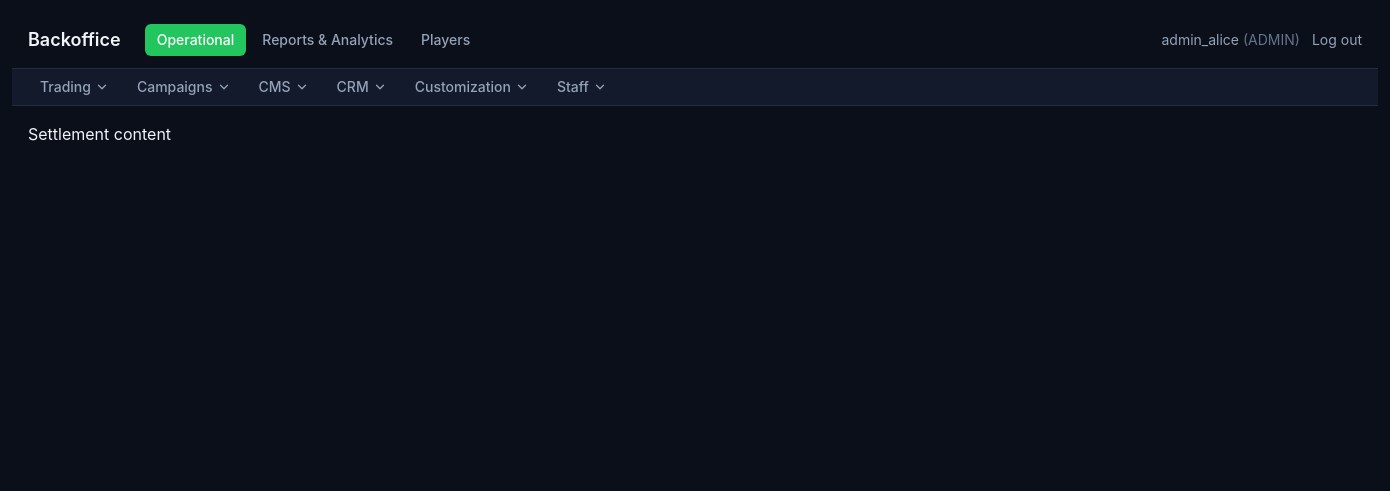
Test: AppShell navigation groups › navigating via a group link closes the open dropdown
The image size is (1390, 491).
Click the button "Trading" at point(74, 87), box [28, 69, 121, 105]
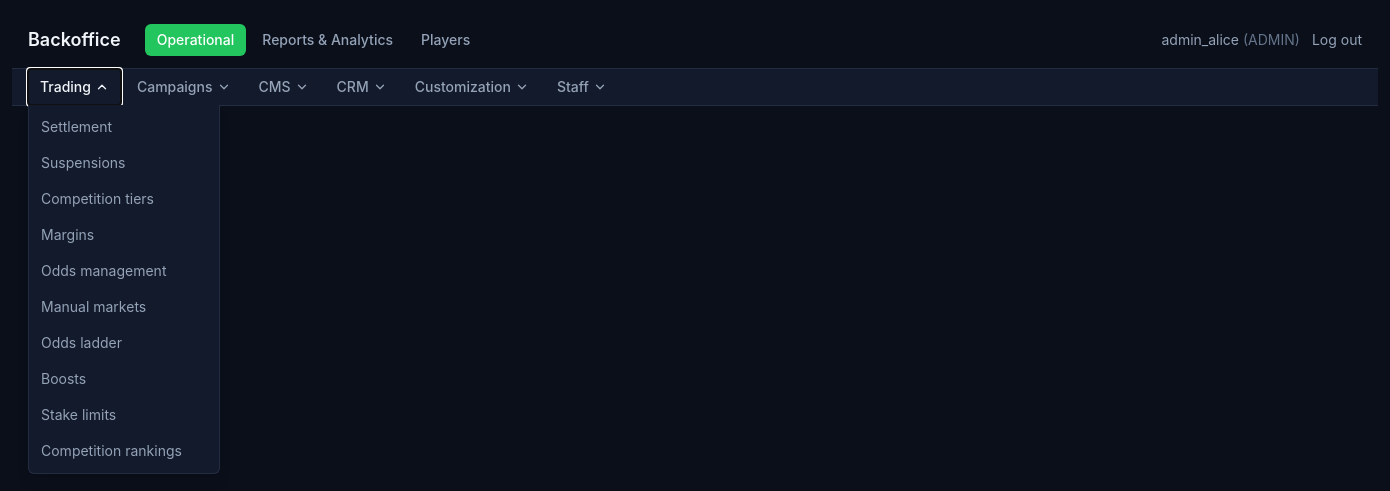
Click the link "Margins" at point(68, 234), box [41, 226, 94, 243]
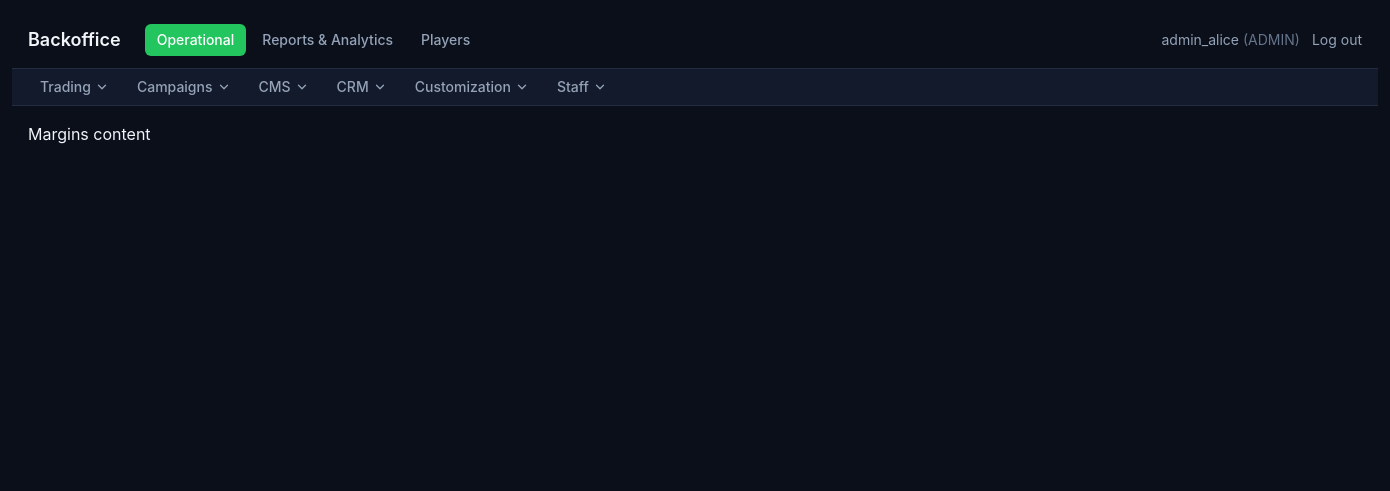
Expected: the text "Margins content" is shown, [28, 124, 151, 144]
Expected: the link "Settlement" is gone
